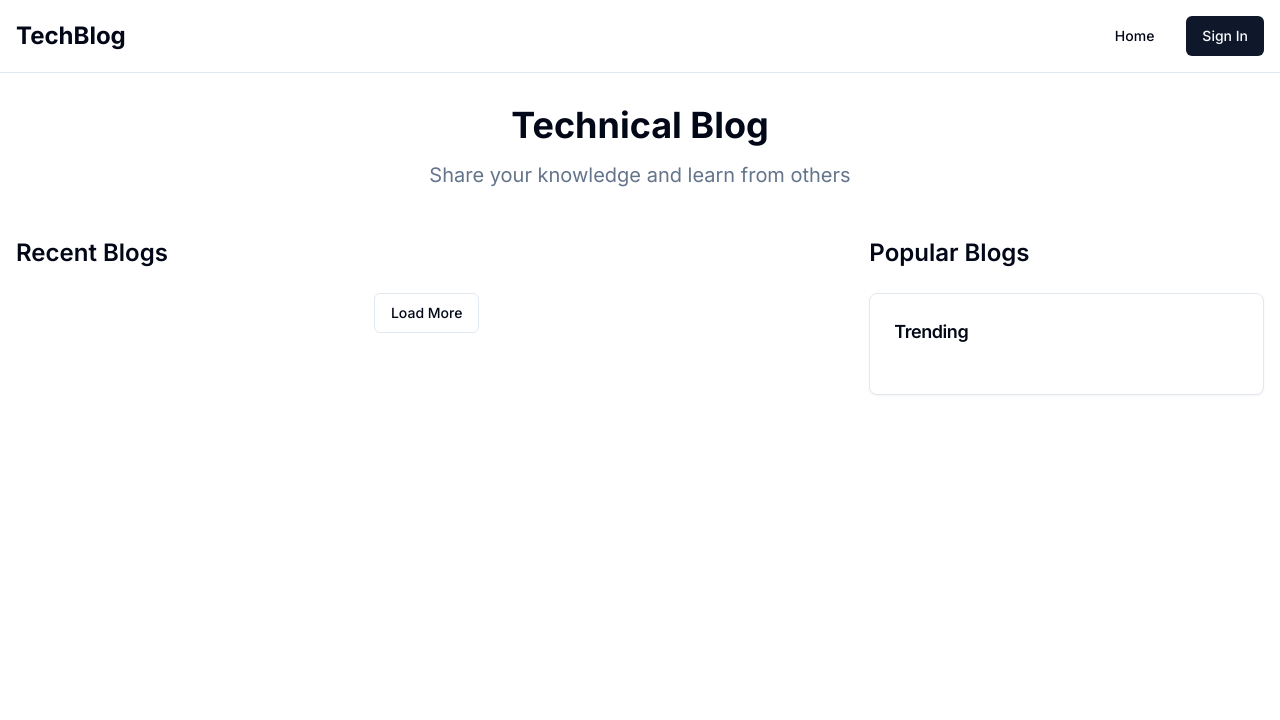
Test: Authentication › should show Sign In button when not authenticated
Click the button "Sign In". click: {"x": 1225, "y": 36}
box: [1186,16,1264,56]
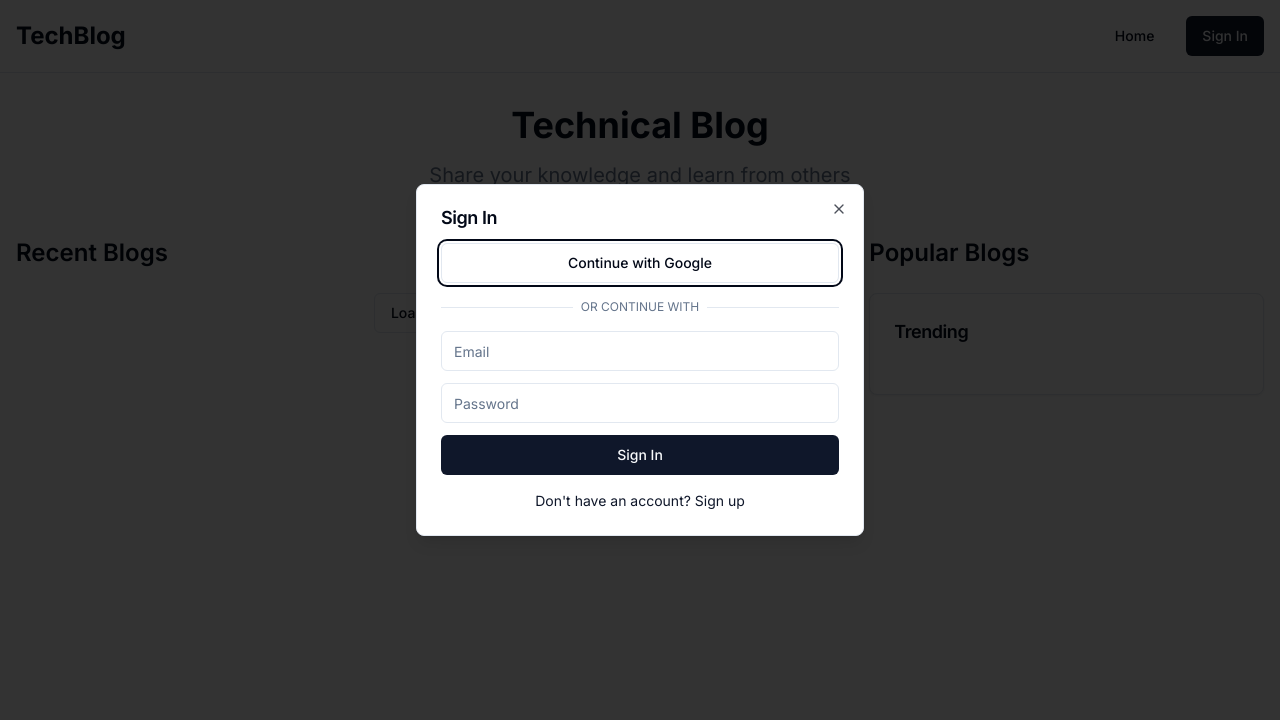
Result: the dialog is shown at [416,184,864,536]
